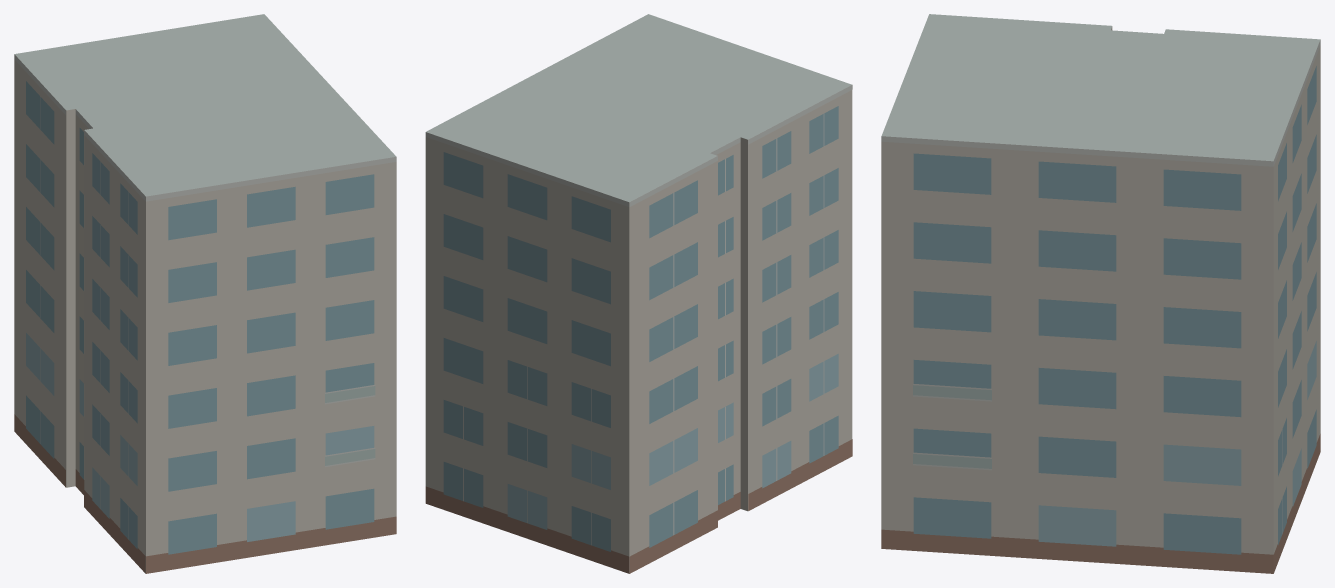
Rendered from survey-upis-32725867.glb.
The picture shows the model from 3 angles, left to right: view 1: azimuth 30°, elevation 25°; view 2: azimuth 150°, elevation 25°; view 3: azimuth 270°, elevation 25°; orthographic projection. The views are drawn at different scales.
Parts seen in each view (by area): view 1: survey-upis-32725867.tmp; view 2: survey-upis-32725867.tmp; view 3: survey-upis-32725867.tmp.
Part boxes in pixels (bbox=[...]): survey-upis-32725867.tmp: bbox=[14, 14, 396, 573]; survey-upis-32725867.tmp: bbox=[425, 14, 852, 573]; survey-upis-32725867.tmp: bbox=[881, 14, 1320, 573].
Size of the model in its own units: 14.02 by 18.3 by 17.66.
